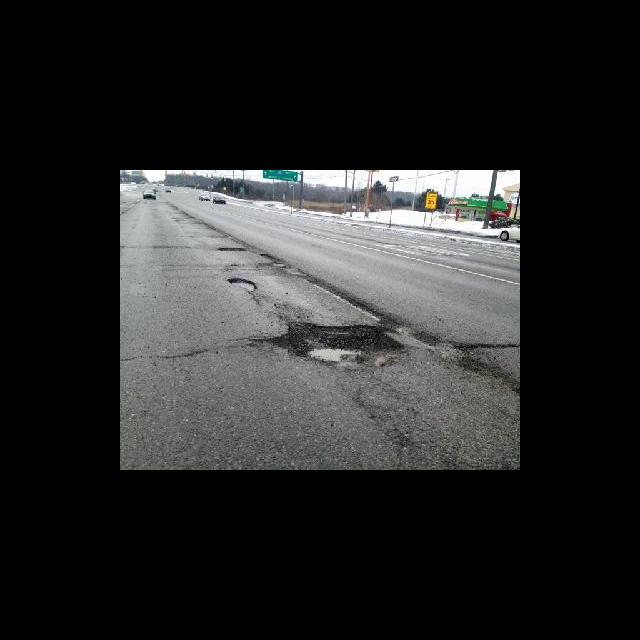retak_kulit_buaya: (272, 304, 400, 376)
